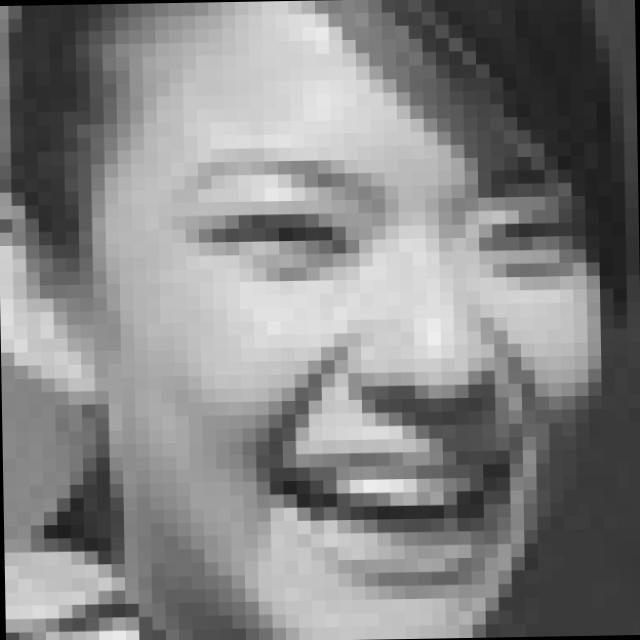happy: (185, 146, 592, 605)
